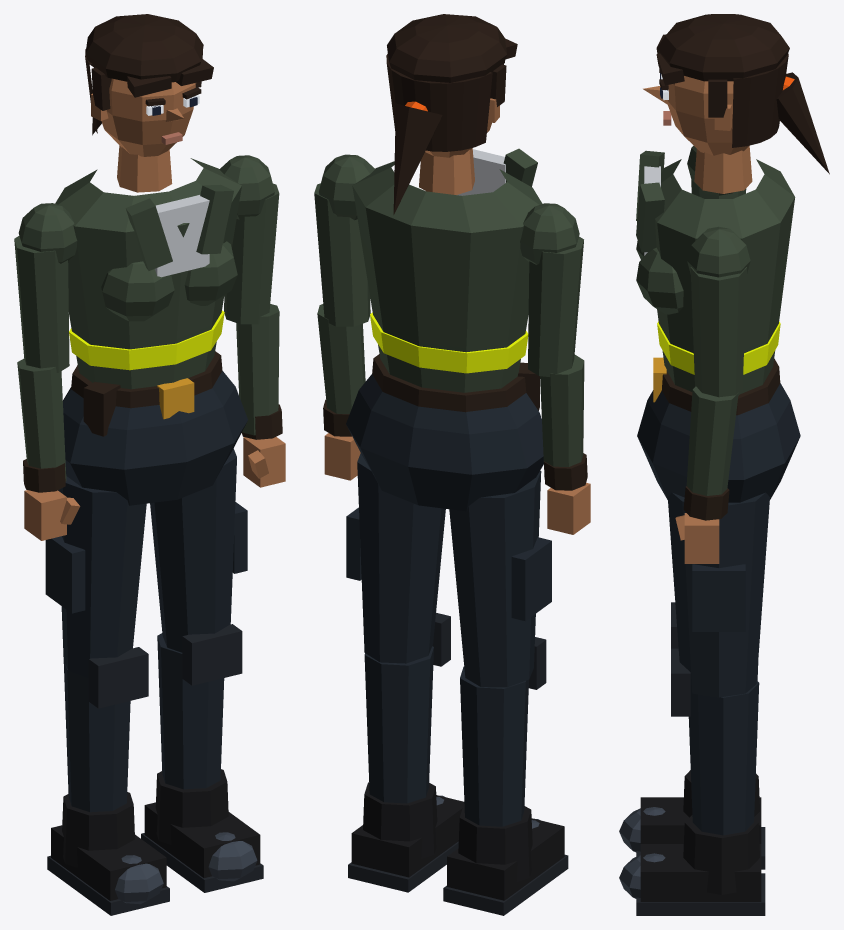
The model's file is brenda_scalehouse_rig.glb.
3 views of the same model, side by side, from view 1: azimuth 30°, elevation 25°; view 2: azimuth 150°, elevation 25°; view 3: azimuth 270°, elevation 25° (orthographic).
Visible parts, largest first — view 1: Torso_Jacket_Female, Pelvis_Hips_Female, Leg_Upper_R, Leg_Upper_L, Leg_Lower_R, Leg_Lower_L, Hair_Top_Dome, Arm_Upper_L, Arm_Upper_R, Head_Cranium_Base, Arm_Lower_L, Arm_Lower_R (+31 smaller); view 2: Torso_Jacket_Female, Pelvis_Hips_Female, Leg_Upper_L, Leg_Upper_R, Leg_Lower_R, Leg_Lower_L, Hair_Top_Dome, Arm_Upper_L, Arm_Upper_R, Hair_Back_Nape_Shell, Arm_Lower_L, Boot_Vamp_L (+22 smaller); view 3: Torso_Jacket_Female, Leg_Upper_R, Pelvis_Hips_Female, Leg_Lower_R, Hair_Top_Dome, Arm_Upper_R, Boot_Vamp_R, Arm_Lower_R, Boot_Ankle_Shaft_R, Cargo_Pocket_R, Hair_Back_Nape_Shell, Head_Cranium_Base (+18 smaller).
Boxes of the visible parts, x1,y1,x2,y2 form: Torso_Jacket_Female: (55,158,241,389); Pelvis_Hips_Female: (63,371,247,505); Leg_Upper_R: (150,448,236,652); Leg_Upper_L: (58,476,146,677); Leg_Lower_R: (157,633,224,789); Leg_Lower_L: (63,660,130,812); Hair_Top_Dome: (85,14,203,82); Arm_Upper_L: (14,236,69,372); Arm_Upper_R: (224,183,279,324); Head_Cranium_Base: (101,78,196,156); Arm_Lower_L: (17,358,66,481); Arm_Lower_R: (236,304,279,435); Torso_Jacket_Female: (352,161,542,392); Pelvis_Hips_Female: (346,374,543,511); Leg_Upper_L: (449,470,541,687); Leg_Upper_R: (357,453,445,663); Leg_Lower_R: (364,646,433,803); Leg_Lower_L: (460,666,528,826); Hair_Top_Dome: (387,14,506,82); Arm_Upper_L: (528,236,583,376); Arm_Upper_R: (314,183,370,326); Hair_Back_Nape_Shell: (386,53,492,151); Arm_Lower_L: (540,354,584,476); Boot_Vamp_L: (447,818,564,900); Torso_Jacket_Female: (655,159,795,394); Leg_Upper_R: (667,492,769,697); Pelvis_Hips_Female: (637,383,800,502); Leg_Lower_R: (688,680,759,835); Hair_Top_Dome: (657,14,789,81); Arm_Upper_R: (690,267,746,397); Boot_Vamp_R: (640,844,761,901); Arm_Lower_R: (686,386,738,495); Boot_Ankle_Shaft_R: (683,815,759,894); Cargo_Pocket_R: (692,564,745,631); Hair_Back_Nape_Shell: (732,53,788,147); Head_Cranium_Base: (668,76,748,155).
Bounding box in the file's own units: 0.5432 × 1.68 × 0.376.
